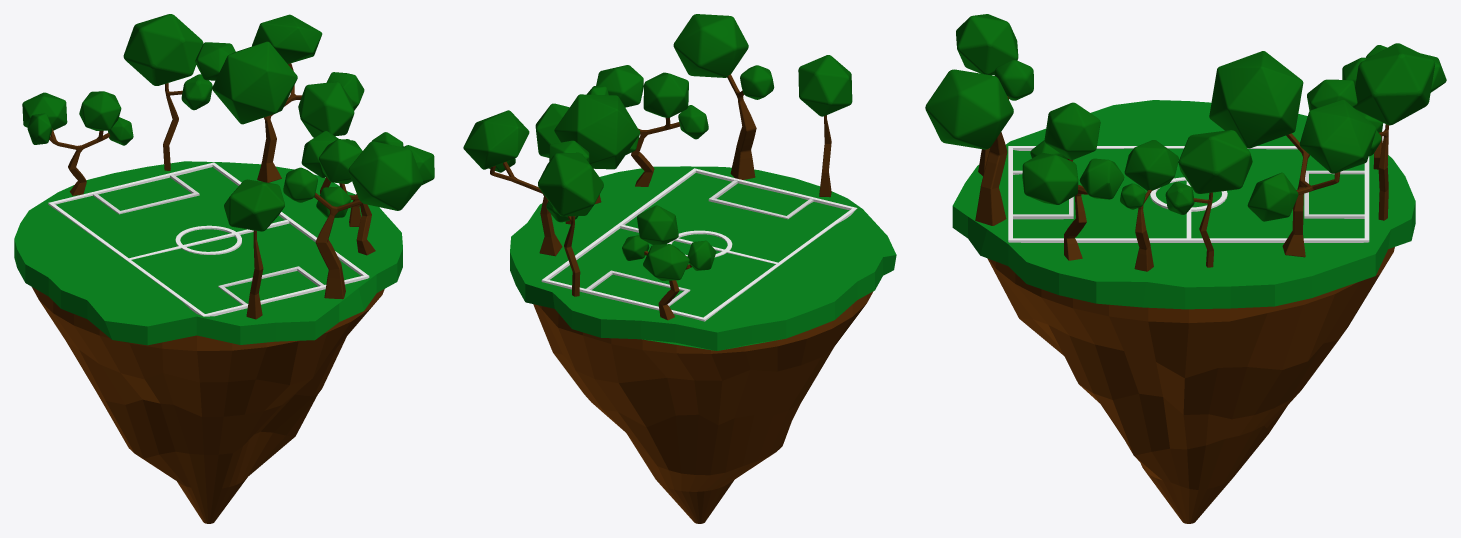
The model's file is duck_island.glb.
3 renders of one model, left to right at view 1: azimuth 30°, elevation 25°; view 2: azimuth 150°, elevation 25°; view 3: azimuth 270°, elevation 25°, orthographic. The views are drawn at different scales.
Parts seen in each view (by area): view 1: grass, soil, Icosphere.003, Icosphere.002, Icosphere.005, pitch, leaves.001, leaves, Icosphere.004, Icosphere, tree_6, goal_areas (+6 smaller); view 2: grass, soil, Icosphere.003, Icosphere.005, leaves, pitch, leaves.001, Icosphere.002, Icosphere, tree_6, goal_areas, tree_2 (+4 smaller); view 3: grass, soil, Icosphere.003, leaves, Icosphere.005, Icosphere.002, Icosphere.004, pitch, Icosphere, Icosphere.001, tree_6, tree_2 (+5 smaller).
Boxes of the visible parts, left/top/right/bottom form: grass: left=14, top=161, right=402, bottom=345; soil: left=32, top=287, right=384, bottom=523; Icosphere.003: left=195, top=14, right=364, bottom=124; Icosphere.002: left=123, top=14, right=212, bottom=110; Icosphere.005: left=283, top=141, right=422, bottom=210; pitch: left=48, top=162, right=369, bottom=316; leaves.001: left=22, top=91, right=133, bottom=145; leaves: left=316, top=132, right=434, bottom=217; Icosphere.004: left=298, top=81, right=354, bottom=139; Icosphere: left=224, top=179, right=284, bottom=231; tree_6: left=314, top=193, right=362, bottom=299; goal_areas: left=93, top=174, right=323, bottom=304; grass: left=510, top=166, right=896, bottom=350; soil: left=533, top=291, right=873, bottom=523; Icosphere.003: left=463, top=94, right=639, bottom=172; Icosphere.005: left=673, top=14, right=774, bottom=99; leaves: left=586, top=65, right=708, bottom=139; pitch: left=541, top=168, right=857, bottom=321; leaves.001: left=622, top=205, right=716, bottom=280; Icosphere.002: left=538, top=152, right=603, bottom=222; Icosphere: left=798, top=55, right=852, bottom=116; tree_6: left=727, top=74, right=756, bottom=179; goal_areas: left=586, top=180, right=813, bottom=306; tree_2: left=490, top=161, right=562, bottom=256; grass: left=952, top=100, right=1415, bottom=309; soil: left=987, top=247, right=1394, bottom=523; Icosphere.003: left=1209, top=51, right=1376, bottom=221; leaves: left=1022, top=102, right=1124, bottom=204; Icosphere.005: left=925, top=60, right=1033, bottom=149; Icosphere.002: left=1353, top=43, right=1435, bottom=156; Icosphere.004: left=1165, top=130, right=1252, bottom=214; pitch: left=1008, top=146, right=1369, bottom=242; Icosphere: left=956, top=14, right=1018, bottom=75; Icosphere.001: left=1120, top=140, right=1178, bottom=209; tree_6: left=975, top=96, right=1009, bottom=225; tree_2: left=1282, top=133, right=1340, bottom=257.
Size of the model in its own units: 15.18 by 17.89 by 16.72.
